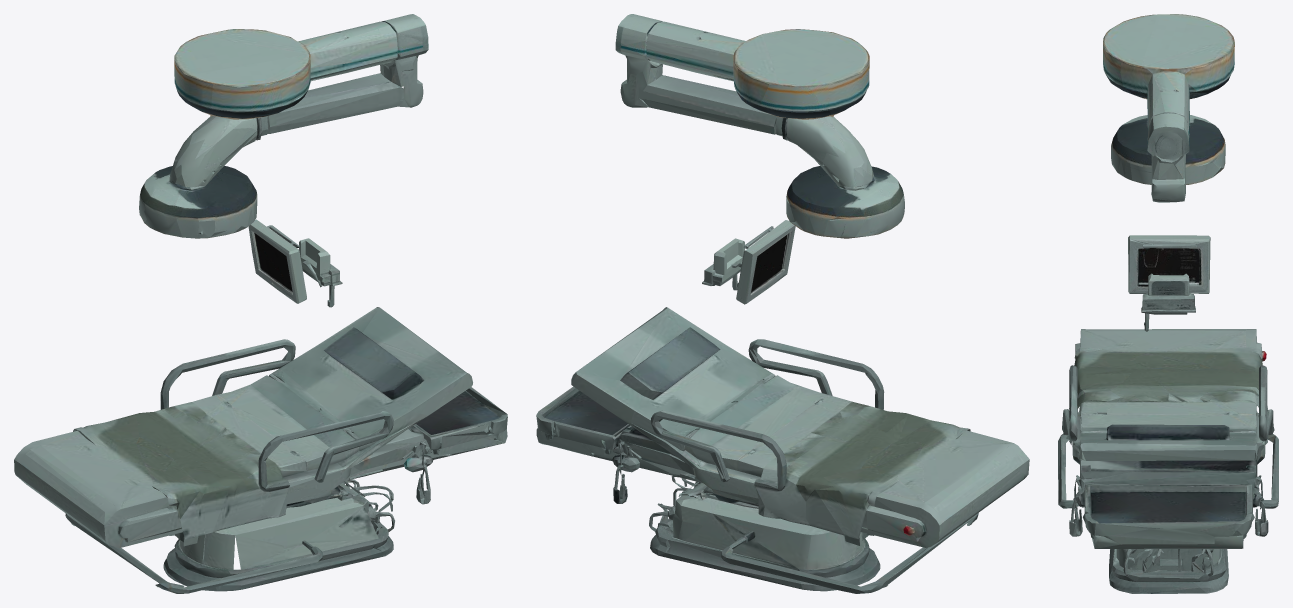
Rendered from med_bay.glb.
3 views of the same model, side by side, from view 1: azimuth 30°, elevation 25°; view 2: azimuth 150°, elevation 25°; view 3: azimuth 270°, elevation 25° (orthographic). The views are drawn at different scales.
Size of the model in its own units: 1.63 by 1.9 by 0.7758.
Materials: 1 (1 with a texture image).
